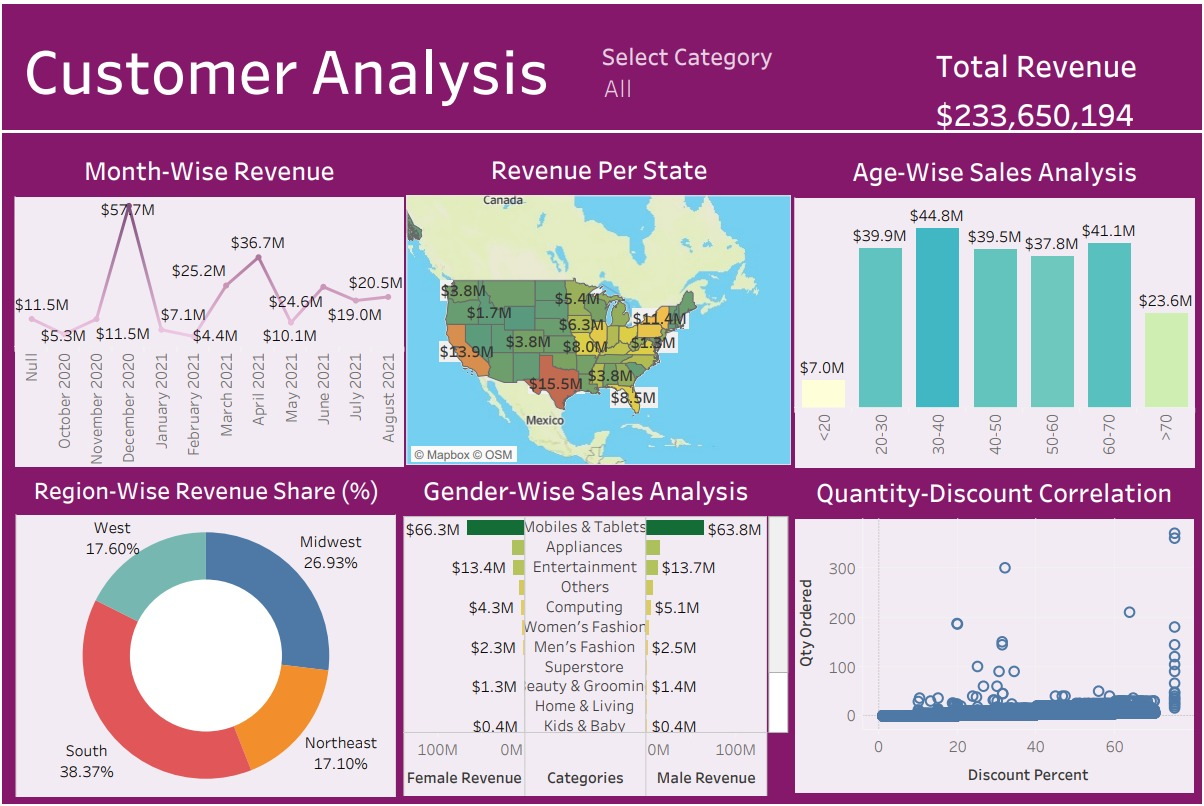

Layout of this report page (visuals, bound fields, positions):
{"tool":"tableau","page":{"name":"Dashboard 1","canvas":[1200,800],"ordinal":0},"visuals":[{"type":"text","box":[18,13,561,106]},{"type":"worksheet","title":"Total Revenue","mark":"Automatic","box":[930,34,239,97]},{"type":"filter","title":"Gender-Wise Sales Analysis","param":"[federated.0flw4c20qv8n0019e0o1f1wqiqgt].[none:category:nk]","box":[600,35,299,66]},{"type":"blank","box":[0,126,1200,3]},{"type":"worksheet","title":"Revenue Per State","mark":"Automatic","box":[405,142,385,320]},{"type":"worksheet","title":"Month-Wise Revenue","mark":"Automatic","rows":["total"],"cols":["month"],"box":[13,143,389,320]},{"type":"worksheet","title":"Age-Wise Sales Analysis","mark":"Automatic","rows":["total"],"cols":["Age (bin)"],"box":[793,144,400,320]},{"type":"worksheet","title":"Gender-Wise Sales Analysis","mark":"Automatic","rows":["category"],"cols":["Calculation_1085367527638773761","Calculation_1085367527635877888","Calculation_1085367527639285762"],"box":[402,463,386,330]},{"type":"worksheet","title":"Region-Wise Revenue Share (%) ","mark":"Pie","rows":["Calculation_1085367527635877888","Calculation_1085367527635877888"],"box":[14,464,381,330]},{"type":"worksheet","title":"Quantity-Discount Correlation","mark":"Automatic","rows":["qty_ordered"],"cols":["Discount_Percent"],"box":[793,465,399,324]}]}

Visuals, with their boxes in screenshot pixels (x1, y1, x2, y2), scaled from the page's 1200x800 canvas onto the 1204x806 screenshot:
text: left=18, top=13, right=581, bottom=120
"Total Revenue" worksheet: left=933, top=34, right=1173, bottom=132
"Gender-Wise Sales Analysis" filter: left=602, top=35, right=902, bottom=102
blank: left=0, top=127, right=1203, bottom=130
"Revenue Per State" worksheet: left=406, top=143, right=793, bottom=465
"Month-Wise Revenue" worksheet: left=13, top=144, right=403, bottom=466
"Age-Wise Sales Analysis" worksheet: left=796, top=145, right=1197, bottom=467
"Gender-Wise Sales Analysis" worksheet: left=403, top=466, right=791, bottom=799
"Region-Wise Revenue Share (%) " worksheet (Pie marks): left=14, top=467, right=396, bottom=800
"Quantity-Discount Correlation" worksheet: left=796, top=468, right=1196, bottom=795
